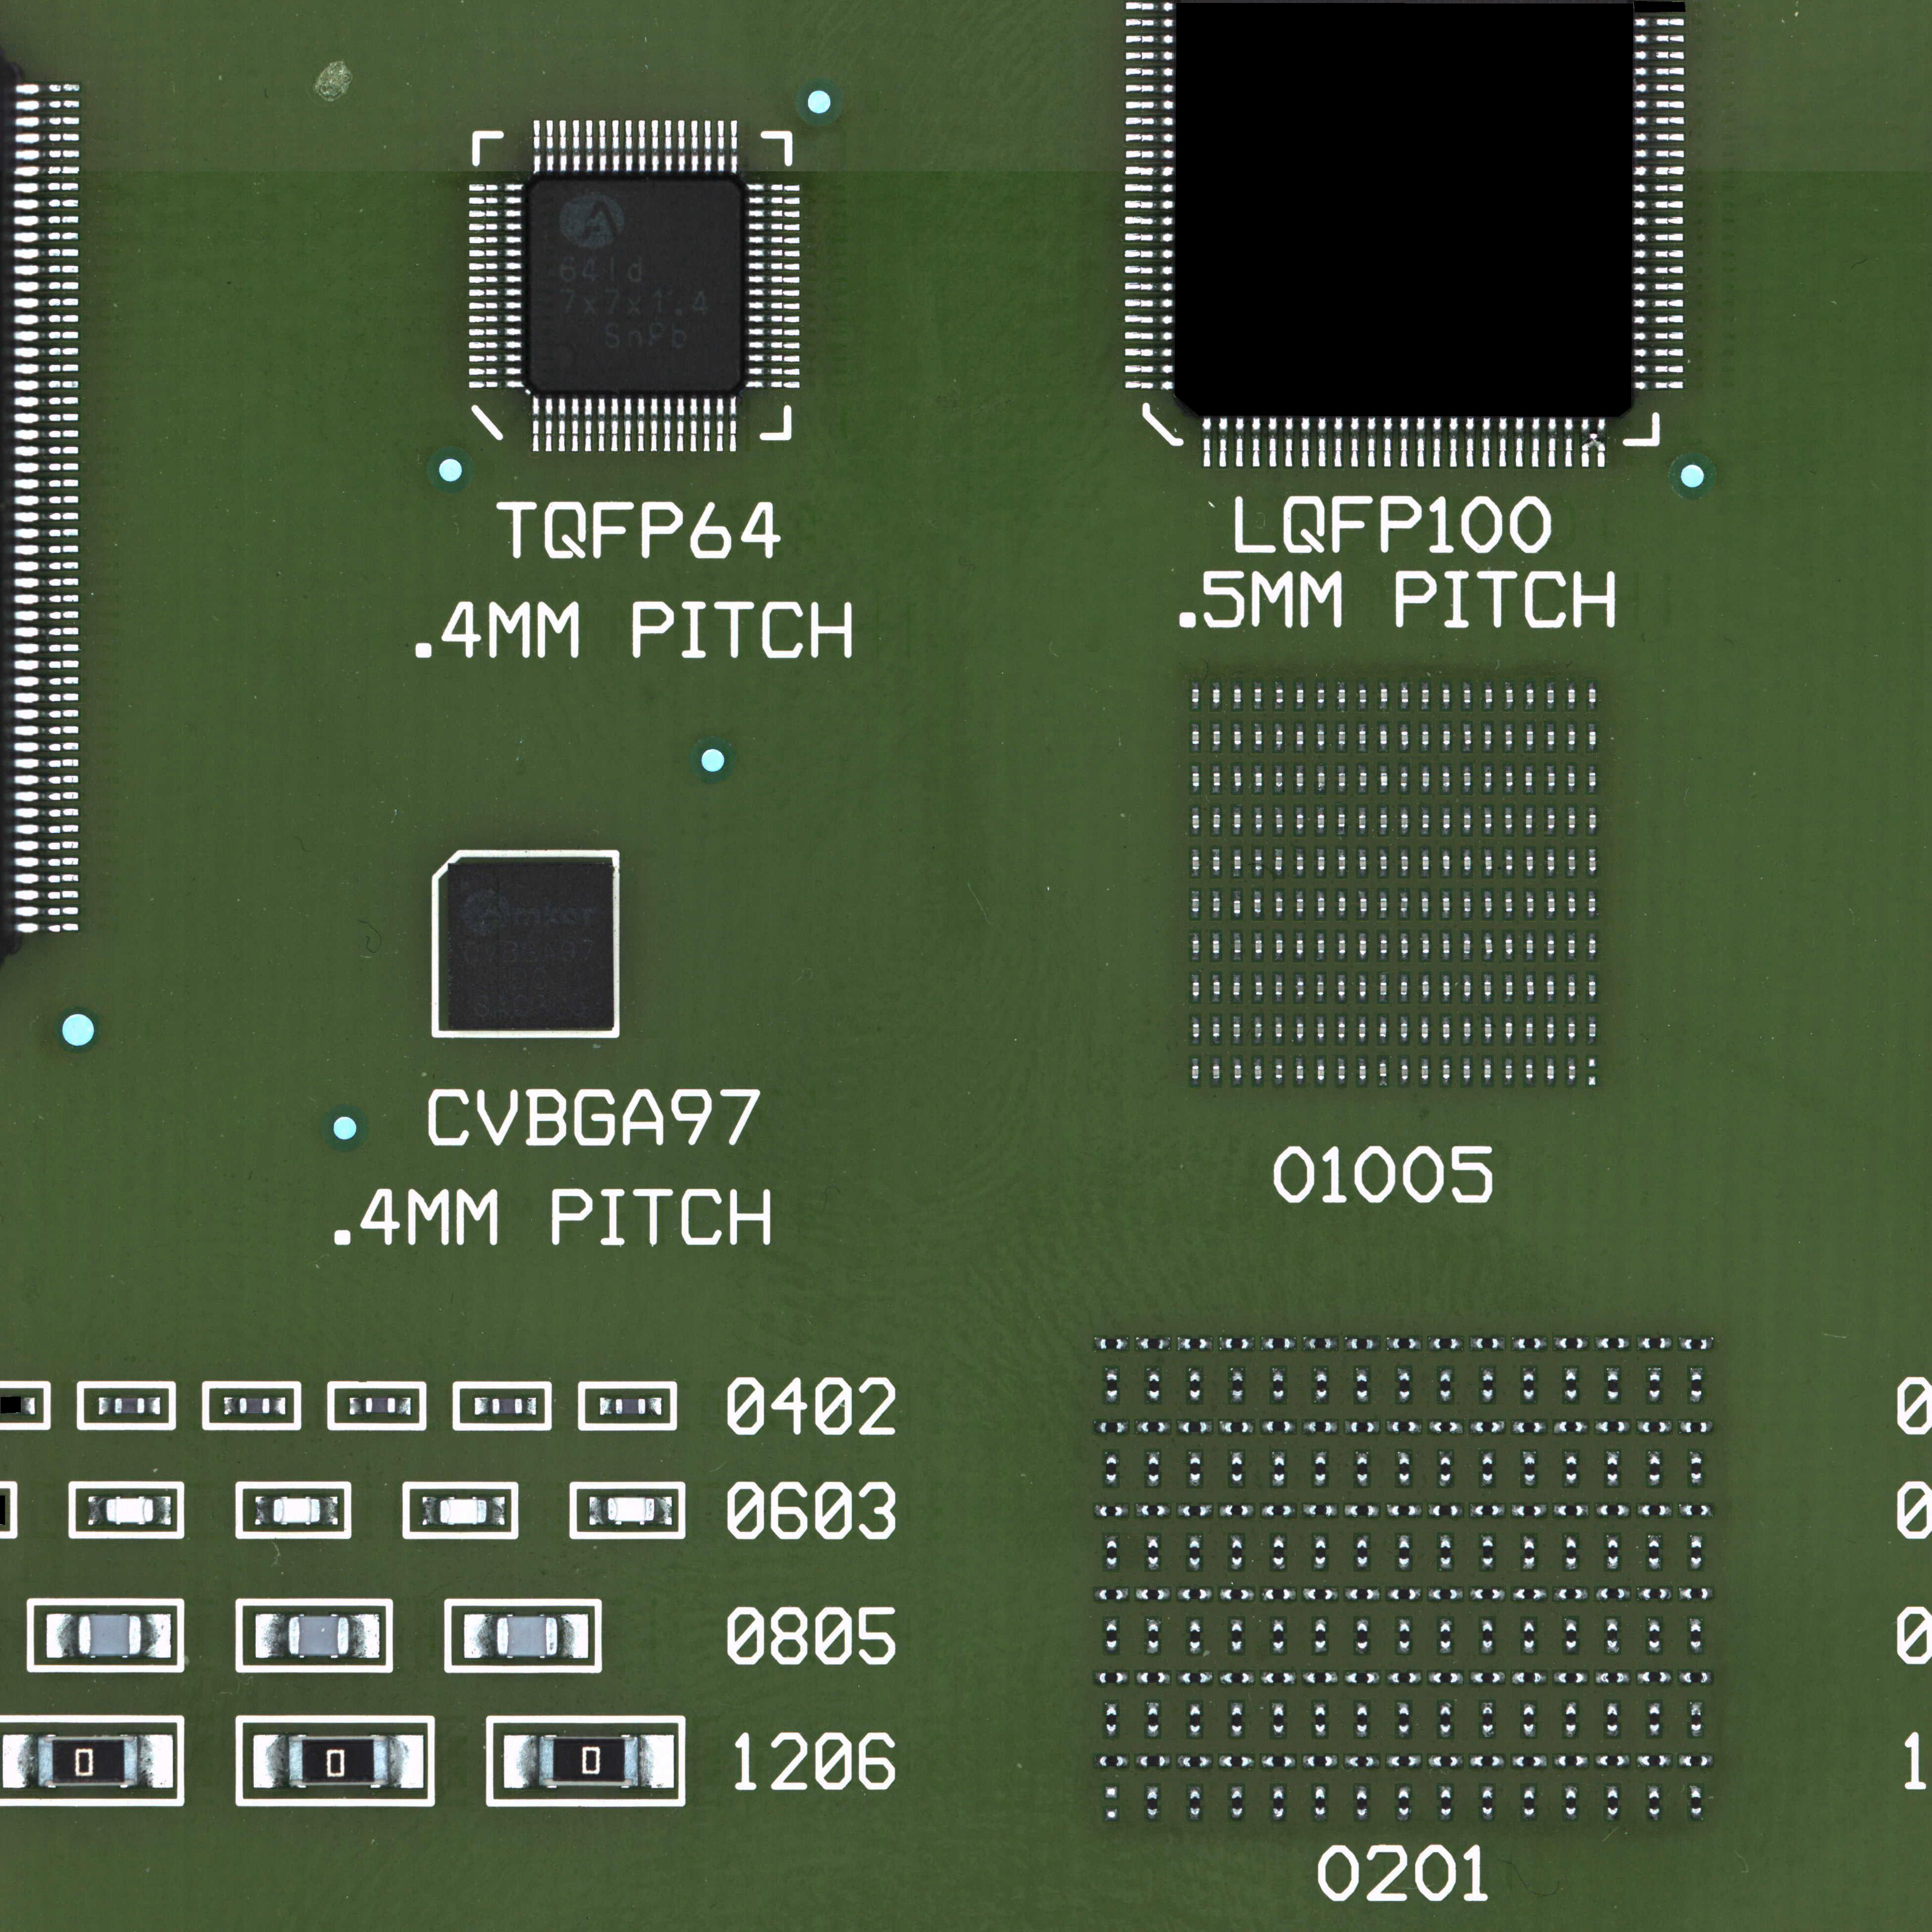Package: (528, 179, 742, 391), (448, 864, 613, 1029), (38, 1736, 138, 1786), (289, 1736, 388, 1785), (538, 1737, 638, 1785), (79, 1615, 142, 1655), (288, 1617, 349, 1655), (497, 1617, 558, 1655), (273, 1498, 321, 1523), (608, 1497, 655, 1522), (440, 1499, 487, 1523), (106, 1499, 153, 1523), (492, 1399, 523, 1414), (114, 1398, 145, 1413), (616, 1399, 645, 1414), (239, 1398, 269, 1413), (365, 1398, 395, 1413), (1273, 1623, 1284, 1649), (1356, 1623, 1368, 1649), (1559, 1505, 1583, 1517), (1607, 1790, 1618, 1815), (1523, 1541, 1536, 1564), (1231, 1791, 1243, 1815), (1440, 1541, 1451, 1565), (1148, 1539, 1159, 1564), (1189, 1374, 1201, 1398), (1440, 1624, 1451, 1648), (1266, 1505, 1291, 1516), (1189, 1624, 1200, 1648), (1273, 1539, 1284, 1565), (1601, 1588, 1624, 1599), (1141, 1672, 1165, 1683), (1189, 1541, 1200, 1565), (1566, 1456, 1577, 1480), (1308, 1589, 1332, 1600), (1315, 1456, 1326, 1481), (1566, 1790, 1577, 1815), (1433, 1505, 1458, 1516), (1315, 1623, 1326, 1648), (1356, 1374, 1367, 1397), (1184, 1422, 1207, 1433), (1648, 1541, 1659, 1564), (1649, 1457, 1660, 1481), (1231, 1623, 1242, 1647), (1475, 1589, 1500, 1599), (1107, 1374, 1118, 1396), (1690, 1624, 1701, 1647), (1351, 1589, 1374, 1600), (1649, 1624, 1660, 1647), (1356, 1457, 1367, 1480), (1149, 1374, 1159, 1398), (1148, 1624, 1159, 1647), (1400, 1624, 1410, 1648), (1566, 1623, 1576, 1647), (1399, 1540, 1409, 1564), (1308, 1756, 1332, 1766), (1190, 1457, 1201, 1480), (1309, 1505, 1332, 1516), (1607, 1375, 1619, 1397), (1190, 1709, 1201, 1732), (1148, 1708, 1159, 1731), (1107, 1624, 1117, 1648), (1190, 1791, 1200, 1815), (1107, 1457, 1117, 1481), (1440, 1457, 1450, 1481), (1392, 1589, 1416, 1599), (1183, 1506, 1207, 1517), (1691, 1541, 1702, 1564), (1225, 1756, 1249, 1767), (1399, 1791, 1409, 1815), (1475, 1673, 1500, 1683), (1232, 1540, 1242, 1565), (1142, 1422, 1164, 1433), (1649, 1792, 1660, 1815), (1309, 1421, 1331, 1432), (1691, 1374, 1702, 1396), (1399, 1374, 1410, 1397), (1608, 1542, 1619, 1564), (1642, 1505, 1666, 1516), (1559, 1589, 1582, 1599), (1141, 1756, 1164, 1766), (1643, 1672, 1667, 1682), (1147, 1792, 1158, 1815), (1351, 1422, 1374, 1433), (1351, 1505, 1374, 1516), (1607, 1624, 1618, 1647), (1149, 1457, 1159, 1481), (1565, 1708, 1576, 1731), (1232, 1457, 1242, 1481), (1525, 1457, 1535, 1480), (1315, 1541, 1326, 1564), (1524, 1624, 1535, 1647), (1107, 1541, 1117, 1565), (1357, 1541, 1367, 1565), (1350, 1673, 1374, 1683), (1483, 1540, 1493, 1564), (1100, 1339, 1122, 1350), (1649, 1374, 1660, 1396), (1685, 1672, 1707, 1683), (1686, 1588, 1708, 1598), (1686, 1505, 1707, 1516), (1267, 1421, 1290, 1432), (1183, 1589, 1206, 1599), (1524, 1374, 1534, 1397), (1316, 1374, 1327, 1397), (1106, 1708, 1116, 1731), (1440, 1374, 1450, 1397), (1399, 1458, 1409, 1481), (1565, 1376, 1577, 1397), (1607, 1458, 1618, 1481), (1357, 1791, 1367, 1815), (1559, 1756, 1583, 1766), (1267, 1673, 1291, 1683), (1517, 1506, 1541, 1516), (1434, 1590, 1457, 1599), (1517, 1589, 1541, 1599), (1483, 1624, 1493, 1647), (1273, 1375, 1284, 1397), (1644, 1338, 1665, 1349), (1435, 1338, 1457, 1349), (1602, 1421, 1624, 1432), (1566, 1542, 1576, 1564), (1226, 1422, 1248, 1433), (1601, 1673, 1624, 1683), (1144, 1338, 1164, 1350), (1100, 1673, 1123, 1683), (1273, 1791, 1283, 1814), (1274, 1457, 1284, 1481), (1183, 1673, 1207, 1683), (1607, 1708, 1617, 1731), (1266, 1590, 1290, 1599), (1476, 1505, 1499, 1515), (1267, 1757, 1291, 1767), (1483, 1458, 1493, 1481), (1308, 1673, 1332, 1683), (1560, 1421, 1582, 1432), (1101, 1422, 1122, 1433), (1561, 1338, 1583, 1348), (1691, 1710, 1702, 1731), (1441, 1791, 1451, 1813), (1691, 1457, 1701, 1479), (1101, 1756, 1123, 1766), (1184, 1757, 1207, 1767), (1393, 1505, 1415, 1515), (1690, 1793, 1702, 1813), (1394, 1338, 1415, 1349), (1143, 1505, 1164, 1515), (1519, 1338, 1540, 1349), (1482, 1375, 1493, 1397), (1649, 1709, 1660, 1730), (1315, 1710, 1326, 1731), (1315, 1793, 1325, 1814), (1232, 1376, 1243, 1396), (1100, 1590, 1122, 1600), (1393, 1422, 1415, 1432), (1643, 1422, 1666, 1432), (1602, 1338, 1624, 1348), (1476, 1422, 1498, 1432), (1601, 1505, 1624, 1515), (1268, 1338, 1290, 1348), (1518, 1673, 1540, 1683), (1601, 1756, 1623, 1766), (1518, 1757, 1540, 1767), (1225, 1505, 1248, 1515), (1225, 1673, 1249, 1683), (1483, 1709, 1493, 1730), (1232, 1711, 1242, 1732), (1643, 1589, 1665, 1598), (1685, 1756, 1707, 1766), (1524, 1709, 1534, 1731), (1226, 1339, 1248, 1349), (1352, 1757, 1374, 1767), (1435, 1757, 1457, 1766), (1686, 1422, 1706, 1432), (1524, 1793, 1534, 1814), (1686, 1339, 1707, 1349), (1142, 1590, 1163, 1599), (1185, 1339, 1206, 1349), (1519, 1422, 1540, 1432), (1435, 1422, 1456, 1432), (1226, 1590, 1248, 1599), (1560, 1673, 1582, 1683), (1643, 1756, 1665, 1766), (1435, 1673, 1457, 1683), (1476, 1757, 1498, 1766), (1477, 1338, 1498, 1348), (1441, 1709, 1451, 1729), (1352, 1339, 1373, 1349), (1274, 1709, 1284, 1730), (1310, 1338, 1331, 1348), (1483, 1793, 1493, 1813), (1394, 1673, 1415, 1683), (1393, 1756, 1414, 1766), (1101, 1506, 1121, 1516), (1399, 1710, 1409, 1730), (1357, 1711, 1367, 1730), (1337, 1066, 1347, 1079), (1485, 939, 1493, 954), (1338, 981, 1346, 995), (1338, 1023, 1346, 1038), (1504, 815, 1513, 828), (1485, 689, 1493, 703), (1255, 773, 1262, 786), (1191, 1065, 1199, 1079), (1527, 898, 1534, 913), (1401, 1023, 1408, 1037), (1421, 1024, 1429, 1038), (1317, 1065, 1325, 1080), (1526, 689, 1534, 703), (1505, 731, 1513, 744), (1505, 898, 1513, 912), (1401, 731, 1409, 745), (1338, 940, 1346, 954), (1255, 1023, 1262, 1037), (1275, 1065, 1283, 1078), (1192, 689, 1199, 703), (1254, 688, 1261, 702), (1276, 689, 1284, 703), (1401, 689, 1408, 703), (1547, 689, 1554, 703), (1568, 731, 1576, 745), (1485, 773, 1492, 787), (1568, 773, 1575, 786), (1464, 857, 1471, 870), (1568, 856, 1576, 870), (1443, 898, 1450, 912), (1568, 898, 1576, 912), (1589, 939, 1596, 953), (1589, 981, 1596, 995), (1275, 773, 1283, 786), (1359, 773, 1367, 786), (1358, 815, 1366, 828), (1422, 814, 1429, 828), (1380, 856, 1387, 870), (1401, 898, 1408, 912), (1401, 940, 1408, 954), (1422, 981, 1430, 995), (1297, 1023, 1304, 1038), (1255, 730, 1262, 744), (1233, 900, 1241, 914), (1255, 1065, 1262, 1079), (1526, 1064, 1533, 1078), (1568, 1065, 1576, 1079), (1443, 856, 1449, 870), (1526, 856, 1533, 870), (1422, 773, 1429, 787), (1422, 940, 1429, 954), (1317, 731, 1324, 745), (1505, 1022, 1512, 1037), (1234, 689, 1241, 702), (1464, 690, 1471, 703), (1506, 689, 1513, 703), (1568, 689, 1575, 703), (1484, 731, 1492, 744), (1443, 773, 1450, 786), (1443, 815, 1450, 828), (1485, 815, 1492, 828), (1525, 815, 1533, 828), (1547, 815, 1555, 828), (1568, 815, 1576, 828), (1485, 898, 1492, 912), (1547, 899, 1555, 912), (1484, 982, 1492, 995), (1505, 982, 1513, 995), (1527, 981, 1534, 995), (1547, 981, 1554, 995), (1338, 731, 1346, 745), (1380, 731, 1387, 744), (1338, 773, 1346, 786), (1338, 857, 1346, 870), (1359, 857, 1367, 870), (1317, 898, 1325, 911), (1359, 899, 1367, 912), (1359, 940, 1367, 954), (1359, 982, 1366, 995), (1380, 982, 1387, 996), (1401, 982, 1408, 995), (1275, 1024, 1283, 1037), (1234, 773, 1242, 786), (1192, 982, 1200, 996), (1546, 1024, 1554, 1037), (1212, 1065, 1220, 1079), (1359, 1066, 1366, 1079), (1443, 1065, 1450, 1078), (1505, 1064, 1512, 1078), (1255, 982, 1263, 995), (1213, 689, 1220, 703), (1318, 689, 1325, 703), (1339, 689, 1346, 703), (1381, 688, 1388, 702), (1422, 689, 1429, 703), (1547, 731, 1554, 745), (1506, 773, 1513, 786), (1548, 773, 1555, 787), (1547, 857, 1554, 870), (1589, 858, 1596, 871), (1443, 940, 1449, 954), (1568, 940, 1575, 954), (1443, 982, 1450, 996), (1422, 731, 1429, 745), (1401, 773, 1407, 787), (1401, 857, 1408, 870), (1297, 940, 1304, 954), (1380, 1023, 1387, 1037), (1234, 731, 1241, 745), (1256, 814, 1262, 828), (1234, 814, 1241, 828), (1193, 815, 1200, 828), (1568, 1023, 1575, 1037), (1464, 1023, 1471, 1037), (1443, 1024, 1449, 1038), (1401, 1065, 1408, 1079), (1463, 1065, 1470, 1079), (1443, 689, 1450, 702), (1443, 731, 1450, 744), (1464, 899, 1471, 912), (1275, 982, 1283, 995), (1317, 982, 1324, 995), (1192, 940, 1200, 953), (1234, 1065, 1241, 1078), (1297, 689, 1304, 703), (1359, 689, 1366, 703), (1589, 689, 1596, 702), (1464, 731, 1471, 744), (1527, 731, 1534, 744), (1589, 731, 1596, 745), (1589, 815, 1596, 828), (1589, 773, 1596, 786), (1589, 899, 1595, 912), (1506, 856, 1513, 869), (1463, 940, 1470, 954), (1505, 939, 1512, 953), (1526, 940, 1533, 953), (1547, 940, 1554, 954), (1568, 982, 1575, 995), (1359, 731, 1366, 745), (1297, 773, 1304, 786), (1381, 773, 1388, 786), (1422, 857, 1429, 870), (1297, 816, 1304, 829), (1317, 815, 1324, 828), (1380, 815, 1387, 828), (1401, 815, 1408, 828), (1275, 857, 1282, 870), (1317, 857, 1324, 870), (1276, 898, 1283, 912), (1297, 899, 1304, 912), (1422, 898, 1429, 912), (1276, 940, 1283, 953), (1318, 940, 1325, 954), (1297, 982, 1304, 995), (1317, 1024, 1324, 1037), (1359, 1024, 1366, 1037), (1297, 731, 1304, 745), (1276, 731, 1283, 745), (1213, 731, 1220, 745), (1192, 731, 1199, 745), (1193, 773, 1200, 787), (1214, 773, 1221, 787), (1255, 856, 1262, 869), (1234, 857, 1241, 870), (1213, 857, 1220, 870), (1192, 857, 1199, 870), (1254, 899, 1261, 912), (1192, 898, 1199, 912), (1234, 940, 1241, 953), (1213, 940, 1220, 954), (1233, 1024, 1240, 1037), (1526, 1023, 1533, 1037), (1485, 1024, 1492, 1037), (1297, 1065, 1304, 1079), (1421, 1065, 1428, 1079), (1484, 1065, 1491, 1078), (1547, 1065, 1554, 1079), (1485, 857, 1493, 869), (1464, 773, 1471, 786), (1464, 815, 1471, 828), (1464, 982, 1471, 995), (1317, 773, 1324, 786), (1276, 815, 1283, 828), (1338, 814, 1345, 827), (1297, 857, 1304, 870), (1339, 898, 1346, 911), (1381, 940, 1387, 954), (1213, 815, 1220, 827), (1213, 898, 1220, 911), (1255, 940, 1262, 953), (1213, 982, 1220, 995), (1233, 982, 1240, 995), (1213, 1024, 1220, 1037), (1193, 1024, 1200, 1037), (1589, 1024, 1596, 1037), (1380, 1063, 1387, 1076), (1526, 773, 1532, 786), (1380, 898, 1387, 911)
Solder: (253, 1734, 288, 1788), (138, 1735, 174, 1788), (389, 1735, 424, 1788), (638, 1735, 674, 1788), (3, 1735, 37, 1788), (505, 1736, 537, 1788), (255, 1613, 288, 1658), (464, 1614, 496, 1658), (46, 1613, 78, 1658), (558, 1613, 588, 1658), (350, 1614, 379, 1658), (142, 1614, 171, 1658), (15, 98, 82, 112), (14, 115, 81, 129), (14, 132, 81, 145), (14, 163, 81, 177), (13, 197, 80, 211), (13, 231, 80, 245), (13, 264, 80, 278), (13, 345, 80, 359), (12, 379, 79, 393), (12, 462, 79, 476), (12, 510, 79, 524), (13, 559, 80, 573), (13, 609, 80, 623), (13, 641, 80, 655), (13, 675, 80, 689), (13, 691, 80, 705), (13, 708, 80, 722), (13, 789, 80, 803), (14, 838, 81, 852), (13, 888, 80, 902), (14, 147, 81, 161), (15, 81, 81, 95), (13, 313, 80, 327), (14, 412, 80, 426), (13, 527, 80, 540), (14, 659, 80, 673), (14, 740, 80, 754), (14, 872, 80, 886), (13, 921, 79, 935), (14, 181, 81, 194), (12, 247, 79, 260), (13, 296, 80, 310), (12, 330, 79, 343), (13, 395, 80, 409), (13, 429, 80, 442), (13, 478, 80, 491), (13, 494, 80, 507), (12, 543, 79, 557), (14, 593, 81, 606), (13, 626, 80, 639), (13, 757, 80, 770), (13, 773, 80, 786), (14, 807, 81, 820), (13, 855, 80, 869), (13, 905, 80, 918), (14, 215, 80, 228), (12, 281, 79, 294), (13, 363, 80, 376), (13, 445, 80, 459), (13, 576, 79, 589), (13, 724, 80, 737), (13, 823, 80, 836), (728, 395, 738, 452), (1124, 17, 1175, 28), (1124, 49, 1175, 60), (1124, 34, 1175, 45), (1124, 66, 1175, 77), (1124, 83, 1175, 94), (1123, 116, 1174, 127), (1123, 132, 1174, 143), (1124, 149, 1175, 160), (1123, 182, 1174, 193), (1123, 216, 1174, 227), (1124, 248, 1175, 259), (1123, 265, 1174, 276), (1123, 297, 1174, 308), (1123, 314, 1174, 325), (1123, 330, 1174, 341), (1123, 364, 1174, 375), (1123, 380, 1174, 391), (1635, 0, 1686, 11), (1635, 16, 1686, 27), (1634, 49, 1685, 60), (1634, 33, 1685, 44), (1634, 66, 1685, 77), (1634, 83, 1685, 94), (1633, 115, 1684, 126), (1634, 148, 1685, 159), (1633, 181, 1684, 192), (1634, 198, 1685, 209), (1633, 215, 1684, 226), (1633, 232, 1684, 242), (1634, 248, 1685, 259), (1633, 265, 1684, 276), (1633, 297, 1684, 308), (1633, 363, 1684, 374), (1633, 380, 1684, 390), (1316, 417, 1327, 468), (1300, 417, 1310, 468), (1284, 417, 1295, 468), (1267, 417, 1278, 468), (1531, 417, 1542, 468), (1546, 417, 1557, 468), (1563, 417, 1574, 468), (1123, 165, 1174, 176), (1125, 1, 1175, 12), (1123, 232, 1174, 243), (1123, 282, 1174, 292), (1633, 132, 1684, 143), (1633, 330, 1683, 340), (1634, 346, 1684, 357), (1202, 417, 1212, 468), (1218, 417, 1229, 468), (1251, 417, 1261, 468), (1234, 417, 1245, 468), (1333, 418, 1344, 468), (1349, 418, 1360, 468), (1366, 418, 1377, 468), (1415, 418, 1426, 468), (1399, 418, 1409, 468), (1383, 418, 1394, 468), (1432, 417, 1443, 468), (1448, 417, 1458, 468), (1464, 417, 1475, 468), (1481, 417, 1492, 468), (1497, 417, 1508, 468), (1513, 417, 1524, 468), (1596, 418, 1607, 468), (1579, 418, 1590, 468), (1634, 166, 1684, 177), (254, 1496, 273, 1525), (468, 183, 525, 193), (1124, 199, 1175, 210), (1634, 99, 1685, 109), (1633, 281, 1684, 291), (1633, 314, 1684, 324), (1124, 99, 1175, 110), (1124, 347, 1174, 358), (468, 236, 523, 245), (745, 236, 800, 245), (468, 248, 523, 258), (745, 367, 800, 377), (746, 314, 801, 324), (468, 262, 523, 271), (468, 275, 523, 284), (468, 340, 523, 350), (468, 353, 523, 363), (468, 196, 523, 205), (469, 209, 524, 218), (468, 222, 523, 231), (531, 394, 540, 452), (746, 248, 800, 258), (746, 341, 800, 350), (747, 262, 801, 271), (746, 288, 801, 297), (746, 209, 801, 219), (746, 183, 800, 192), (655, 1497, 673, 1525), (487, 1497, 505, 1525), (589, 1497, 607, 1525), (321, 1497, 338, 1525), (468, 288, 523, 297), (468, 328, 523, 337), (154, 1496, 171, 1525), (89, 1496, 105, 1525), (468, 301, 523, 310), (468, 315, 523, 324), (544, 397, 553, 452), (422, 1497, 439, 1525), (746, 301, 800, 310), (746, 328, 800, 337), (746, 275, 801, 284), (746, 222, 801, 231), (746, 195, 800, 204), (469, 367, 523, 376), (597, 397, 606, 452), (650, 397, 659, 452), (468, 380, 525, 388), (572, 119, 580, 172), (559, 119, 568, 173), (545, 119, 554, 173), (598, 119, 607, 173), (625, 119, 633, 172), (677, 119, 686, 172), (664, 119, 673, 172), (651, 119, 660, 173), (638, 119, 647, 173), (585, 119, 594, 172), (730, 119, 739, 172), (584, 397, 593, 452), (571, 397, 580, 452), (703, 397, 711, 452), (663, 397, 672, 452), (746, 354, 800, 363), (745, 381, 800, 389), (611, 397, 619, 452), (637, 397, 645, 452), (676, 398, 685, 452), (611, 119, 620, 172), (717, 119, 725, 172), (704, 119, 713, 173), (691, 119, 699, 173), (558, 397, 566, 452), (624, 397, 632, 452), (716, 397, 724, 452), (690, 397, 698, 452), (269, 1398, 286, 1415), (475, 1398, 491, 1415), (645, 1398, 662, 1415), (349, 1398, 365, 1415), (396, 1398, 411, 1416), (224, 1398, 239, 1415), (21, 1397, 37, 1414), (600, 1397, 615, 1415), (98, 1398, 114, 1414), (145, 1397, 160, 1414), (523, 1398, 537, 1415), (1355, 1702, 1369, 1711), (1397, 1730, 1410, 1739), (1260, 1335, 1268, 1351), (1440, 1729, 1452, 1739), (1606, 1648, 1621, 1655), (1355, 1731, 1369, 1739), (1690, 1814, 1704, 1821), (1522, 1814, 1537, 1822), (1248, 1337, 1256, 1351), (1647, 1564, 1663, 1571), (1303, 1336, 1310, 1351), (1523, 1731, 1537, 1739), (1482, 1813, 1496, 1821), (1188, 1480, 1202, 1488), (1314, 1648, 1328, 1655), (1624, 1754, 1631, 1768), (1647, 1815, 1662, 1822), (1291, 1335, 1298, 1351), (1469, 1337, 1477, 1350), (1122, 1505, 1130, 1518), (1565, 1564, 1580, 1571), (1511, 1671, 1518, 1686), (1565, 1815, 1579, 1822), (1314, 1732, 1328, 1739), (1440, 1366, 1453, 1374), (1248, 1588, 1255, 1601), (1207, 1588, 1214, 1601), (1188, 1648, 1202, 1656), (1690, 1647, 1703, 1655), (1271, 1814, 1285, 1822), (1164, 1504, 1172, 1517), (1207, 1337, 1213, 1351), (1541, 1337, 1547, 1351), (1708, 1671, 1715, 1685), (1374, 1672, 1381, 1686), (1147, 1731, 1160, 1738), (1428, 1755, 1435, 1769), (1499, 1755, 1506, 1769), (1647, 1786, 1661, 1792), (1607, 1815, 1621, 1822), (1136, 1337, 1144, 1350), (1176, 1588, 1183, 1600), (1135, 1588, 1142, 1601), (1480, 1648, 1495, 1654), (1522, 1648, 1537, 1654), (1440, 1701, 1452, 1709), (1690, 1786, 1702, 1793), (1188, 1733, 1203, 1739), (1163, 1589, 1171, 1600), (1690, 1702, 1702, 1710), (1524, 1786, 1536, 1793), (1457, 1337, 1464, 1350), (1647, 1397, 1661, 1403), (1249, 1504, 1256, 1518), (1148, 1565, 1161, 1572), (1093, 1589, 1100, 1602), (1552, 1671, 1559, 1685), (1259, 1671, 1266, 1685), (1481, 1731, 1495, 1738), (1415, 1754, 1422, 1768), (1583, 1754, 1590, 1768), (1271, 1702, 1285, 1709), (1314, 1815, 1327, 1822), (1440, 1397, 1454, 1403), (1104, 1481, 1118, 1488), (1523, 1564, 1537, 1571), (1624, 1505, 1631, 1518), (1218, 1588, 1226, 1600), (1231, 1647, 1243, 1655), (1523, 1702, 1535, 1709), (1314, 1786, 1327, 1793), (1647, 1648, 1663, 1654), (1231, 1703, 1243, 1711), (1164, 1338, 1171, 1351), (1345, 1338, 1352, 1351), (1707, 1338, 1714, 1351), (1679, 1420, 1686, 1433), (1541, 1420, 1547, 1434), (1469, 1420, 1476, 1433), (1165, 1421, 1172, 1434), (1541, 1671, 1547, 1685), (1332, 1671, 1339, 1684), (1135, 1671, 1141, 1685), (1123, 1672, 1130, 1685), (1093, 1672, 1100, 1685), (1690, 1731, 1703, 1738), (1564, 1701, 1578, 1708), (1458, 1755, 1465, 1768), (1541, 1755, 1547, 1768), (1249, 1756, 1256, 1769), (1345, 1755, 1352, 1768), (1331, 1337, 1338, 1349), (1386, 1338, 1394, 1350), (1290, 1589, 1298, 1600), (1605, 1618, 1620, 1624), (1386, 1672, 1393, 1684), (1249, 1672, 1256, 1684), (1583, 1337, 1590, 1350), (1260, 1420, 1267, 1433), (1439, 1481, 1452, 1488), (1357, 1481, 1370, 1487), (1386, 1504, 1393, 1518), (1542, 1504, 1548, 1517), (1398, 1648, 1411, 1655), (1439, 1649, 1452, 1655), (1457, 1672, 1464, 1685), (1291, 1672, 1298, 1685), (1481, 1702, 1495, 1709), (1122, 1338, 1129, 1350), (1177, 1338, 1184, 1350), (1553, 1338, 1560, 1350), (1666, 1337, 1673, 1350), (1679, 1338, 1686, 1351), (1707, 1421, 1714, 1433), (1553, 1421, 1560, 1433), (1332, 1421, 1339, 1433), (1093, 1505, 1100, 1517), (1302, 1504, 1309, 1516), (1624, 1588, 1631, 1600), (1541, 1588, 1548, 1600), (1147, 1648, 1159, 1655), (1398, 1703, 1410, 1710), (1636, 1755, 1643, 1767), (1374, 1504, 1380, 1518), (1272, 1565, 1286, 1571), (1355, 1649, 1369, 1655), (1094, 1337, 1100, 1350), (1344, 1420, 1351, 1433), (1094, 1421, 1101, 1434), (1481, 1397, 1494, 1403), (1690, 1397, 1703, 1403), (1606, 1481, 1619, 1488), (1399, 1481, 1411, 1488), (1207, 1504, 1213, 1517), (1637, 1671, 1643, 1684), (1649, 1702, 1662, 1709), (1606, 1731, 1619, 1738), (1564, 1732, 1577, 1738), (1146, 1816, 1159, 1822), (1146, 1786, 1159, 1792), (1415, 1338, 1422, 1350), (1583, 1420, 1589, 1434), (1386, 1420, 1393, 1432), (1106, 1397, 1118, 1403), (1399, 1451, 1410, 1458), (1147, 1481, 1160, 1487), (1607, 1564, 1621, 1570), (1397, 1617, 1411, 1623), (1689, 1618, 1703, 1624), (1649, 1731, 1661, 1738), (1678, 1755, 1685, 1767), (1315, 1703, 1327, 1710), (1440, 1814, 1452, 1821), (1230, 1816, 1244, 1822), (1498, 1420, 1505, 1433), (1122, 1420, 1129, 1433), (1231, 1397, 1244, 1403), (1523, 1398, 1535, 1404), (1565, 1397, 1577, 1403), (1690, 1564, 1703, 1571), (1482, 1565, 1495, 1571), (1314, 1564, 1327, 1571), (1260, 1588, 1266, 1600), (1122, 1588, 1129, 1600), (1582, 1671, 1589, 1683), (1428, 1672, 1434, 1684), (1416, 1671, 1422, 1684), (1666, 1755, 1672, 1767), (1356, 1815, 1368, 1822), (1272, 1397, 1285, 1402), (1165, 1755, 1171, 1768), (1397, 1786, 1410, 1791), (1379, 1077, 1387, 1086), (1457, 1422, 1464, 1433), (1624, 1672, 1631, 1684), (1165, 1673, 1172, 1685), (1469, 1756, 1476, 1767), (1707, 1755, 1714, 1766), (1439, 1565, 1453, 1571), (1637, 1420, 1643, 1432), (1290, 1420, 1296, 1433), (1315, 1368, 1328, 1374), (1607, 1368, 1619, 1374), (1649, 1481, 1662, 1487), (1607, 1451, 1619, 1458), (1219, 1504, 1225, 1517), (1499, 1504, 1506, 1516), (1637, 1588, 1643, 1600), (1583, 1589, 1589, 1600), (1333, 1589, 1339, 1600), (1189, 1618, 1202, 1624), (1272, 1649, 1285, 1655), (1566, 1648, 1578, 1654), (1648, 1618, 1660, 1624), (1595, 1671, 1601, 1684), (1147, 1702, 1160, 1708), (1374, 1756, 1381, 1768), (1386, 1756, 1393, 1768), (1553, 1755, 1559, 1768), (1094, 1756, 1100, 1768), (1373, 1338, 1380, 1349), (1458, 1504, 1463, 1518), (1512, 1504, 1517, 1518), (1501, 1588, 1506, 1602), (1504, 723, 1513, 731), (1233, 891, 1241, 900), (1254, 1057, 1262, 1065), (1567, 1057, 1576, 1065), (1429, 1337, 1435, 1350), (1595, 1337, 1601, 1350), (1595, 1421, 1601, 1433), (1512, 1421, 1518, 1433), (1429, 1420, 1435, 1433), (1303, 1420, 1309, 1433), (1249, 1421, 1255, 1434), (1136, 1421, 1142, 1433), (1398, 1397, 1410, 1403), (1607, 1397, 1620, 1402), (1136, 1504, 1142, 1516), (1332, 1505, 1338, 1517), (1416, 1504, 1422, 1517), (1636, 1504, 1642, 1516), (1440, 1534, 1452, 1540), (1398, 1565, 1410, 1571), (1188, 1565, 1201, 1571), (1553, 1588, 1559, 1600), (1105, 1618, 1117, 1624), (1679, 1672, 1685, 1684), (1469, 1672, 1475, 1684), (1177, 1755, 1183, 1768), (1261, 1755, 1267, 1768), (1333, 1755, 1339, 1767), (1189, 1703, 1202, 1709), (1274, 1731, 1284, 1738), (1398, 1816, 1410, 1822), (1566, 1369, 1577, 1375), (1679, 1588, 1686, 1599), (1482, 1786, 1493, 1792), (1375, 1420, 1380, 1434), (1188, 1368, 1202, 1373), (1649, 1368, 1662, 1374), (1690, 1535, 1704, 1540), (1229, 1565, 1243, 1570), (1344, 1671, 1350, 1684), (1512, 1754, 1517, 1768), (1355, 1786, 1368, 1791), (1498, 1338, 1505, 1349), (1254, 890, 1262, 898), (1253, 680, 1262, 688), (1337, 681, 1346, 689), (1379, 680, 1388, 688), (1567, 681, 1576, 689), (1442, 723, 1451, 731), (1588, 764, 1597, 772), (1463, 807, 1472, 815), (1504, 806, 1513, 814), (1546, 807, 1555, 815), (1525, 848, 1534, 856), (1504, 848, 1513, 856), (1485, 890, 1494, 898), (1547, 890, 1556, 898), (1546, 932, 1555, 940), (1526, 973, 1535, 981), (1504, 973, 1513, 981), (1567, 973, 1576, 981), (1400, 723, 1409, 731), (1358, 807, 1367, 815), (1317, 806, 1326, 814), (1400, 807, 1409, 815), (1275, 890, 1284, 898), (1359, 890, 1368, 898), (1317, 932, 1326, 940), (1338, 932, 1347, 940), (1274, 974, 1283, 982), (1316, 974, 1325, 982), (1275, 1016, 1284, 1024), (1296, 1015, 1304, 1023), (1337, 1015, 1346, 1023), (1379, 1015, 1388, 1023), (1358, 723, 1367, 731), (1274, 723, 1283, 731), (1254, 848, 1263, 856), (1234, 932, 1243, 940), (1254, 1015, 1263, 1023), (1484, 1015, 1493, 1023), (1442, 1015, 1450, 1023), (1275, 1057, 1284, 1065), (1337, 1058, 1346, 1065), (1442, 1057, 1450, 1064), (1546, 1057, 1555, 1065), (1512, 1338, 1518, 1350), (1232, 1369, 1244, 1375), (1482, 1369, 1494, 1375), (1469, 1504, 1475, 1516), (1189, 1535, 1201, 1541), (1416, 1589, 1422, 1600), (1595, 1755, 1601, 1767), (1135, 1756, 1141, 1768), (1218, 1756, 1224, 1768), (1220, 1337, 1225, 1350), (1666, 1421, 1672, 1434), (1625, 1421, 1631, 1432), (1416, 1422, 1422, 1433), (1220, 1421, 1225, 1434), (1178, 1420, 1183, 1433), (1315, 1398, 1328, 1403), (1524, 1481, 1537, 1486), (1440, 1451, 1453, 1456), (1231, 1451, 1244, 1457), (1231, 1481, 1244, 1487), (1106, 1452, 1118, 1457), (1666, 1506, 1672, 1517), (1679, 1505, 1686, 1516), (1707, 1505, 1713, 1516), (1356, 1617, 1369, 1623), (1564, 1618, 1577, 1623), (1231, 1733, 1244, 1738), (1440, 1786, 1452, 1791), (1272, 1785, 1285, 1790), (1230, 1535, 1244, 1540), (1345, 1588, 1350, 1601), (1272, 1618, 1286, 1623), (1625, 1337, 1631, 1349), (1356, 1368, 1368, 1374), (1690, 1479, 1702, 1485), (1649, 1450, 1660, 1456), (1190, 1451, 1201, 1457), (1177, 1505, 1183, 1517), (1552, 1505, 1558, 1516), (1374, 1589, 1380, 1600), (1207, 1672, 1212, 1684), (1177, 1673, 1183, 1684), (1607, 1701, 1618, 1707), (1123, 1755, 1129, 1767), (1190, 1815, 1201, 1821), (1428, 1588, 1434, 1599), (1148, 1368, 1160, 1374), (1357, 1398, 1369, 1403), (1314, 1481, 1326, 1487), (1272, 1481, 1285, 1487), (1345, 1505, 1350, 1517), (1106, 1565, 1118, 1570), (1523, 1618, 1536, 1624), (1500, 1672, 1506, 1684), (1302, 1672, 1307, 1685), (1302, 1755, 1307, 1768), (1231, 1785, 1243, 1790), (1505, 681, 1513, 689), (1484, 807, 1493, 815), (1463, 891, 1472, 899), (1421, 806, 1430, 814), (1379, 870, 1388, 878), (1380, 954, 1388, 962), (1234, 848, 1242, 856), (1254, 974, 1262, 982), (1587, 1037, 1595, 1045), (1463, 1015, 1471, 1023), (1504, 1056, 1513, 1064), (1211, 681, 1220, 689), (1316, 682, 1325, 689), (1358, 681, 1367, 689), (1400, 681, 1409, 689), (1421, 681, 1430, 689), (1442, 681, 1450, 689), (1525, 681, 1534, 689), (1462, 682, 1471, 689), (1484, 681, 1493, 689), (1588, 681, 1597, 688), (1546, 724, 1555, 731), (1567, 723, 1576, 730), (1526, 765, 1535, 772), (1462, 766, 1471, 773), (1546, 765, 1555, 773), (1567, 765, 1576, 772), (1442, 807, 1451, 814), (1546, 849, 1555, 856), (1441, 890, 1449, 898), (1526, 890, 1535, 898), (1442, 932, 1450, 939), (1462, 932, 1471, 940), (1442, 974, 1451, 981), (1546, 973, 1555, 981), (1379, 745, 1388, 752), (1421, 723, 1430, 730), (1275, 807, 1284, 815), (1296, 808, 1304, 815), (1296, 850, 1304, 857), (1379, 848, 1388, 856), (1421, 890, 1430, 898), (1359, 932, 1368, 940), (1295, 932, 1304, 940), (1401, 932, 1409, 940), (1358, 974, 1367, 981), (1296, 974, 1304, 981), (1400, 974, 1409, 981), (1421, 973, 1430, 981), (1359, 1016, 1368, 1023), (1317, 1016, 1326, 1023), (1400, 1015, 1409, 1023), (1296, 724, 1304, 731), (1316, 723, 1325, 730), (1212, 766, 1221, 773), (1233, 765, 1242, 773), (1191, 974, 1200, 982), (1211, 974, 1220, 982), (1232, 974, 1241, 982), (1192, 1016, 1201, 1023), (1567, 1015, 1576, 1023), (1546, 1016, 1555, 1023), (1212, 1058, 1221, 1065), (1233, 1057, 1242, 1064), (1316, 1058, 1325, 1065), (1358, 1058, 1367, 1065), (1379, 1056, 1388, 1063), (1481, 1618, 1494, 1623), (1588, 724, 1597, 731), (1504, 932, 1513, 939), (1420, 1016, 1430, 1023), (1588, 1016, 1597, 1023), (1421, 1058, 1431, 1065), (1484, 1058, 1493, 1064), (1638, 1338, 1643, 1349), (1398, 1368, 1410, 1374), (1583, 1505, 1589, 1516), (1523, 1535, 1535, 1541), (1666, 1588, 1671, 1600), (1387, 1589, 1392, 1600), (1667, 1672, 1673, 1684), (1106, 1703, 1117, 1708), (1106, 1732, 1117, 1738), (1207, 1756, 1212, 1768), (1291, 1757, 1297, 1768), (1229, 1618, 1244, 1623), (1428, 1504, 1433, 1517), (1398, 1535, 1411, 1540), (1303, 1588, 1307, 1601), (1440, 1618, 1452, 1623), (1607, 1785, 1620, 1790), (1565, 1785, 1578, 1790), (1275, 848, 1283, 856), (1317, 849, 1325, 857), (1338, 911, 1346, 919), (1192, 807, 1200, 815), (1212, 890, 1220, 898), (1233, 681, 1241, 688), (1275, 681, 1284, 689), (1296, 681, 1304, 689), (1546, 681, 1555, 689), (1526, 723, 1535, 730), (1484, 765, 1493, 773), (1568, 848, 1576, 856), (1505, 890, 1513, 898), (1568, 912, 1576, 919), (1526, 932, 1534, 939), (1567, 932, 1576, 939), (1588, 931, 1596, 939), (1463, 974, 1471, 982), (1484, 974, 1493, 981), (1317, 766, 1325, 773), (1338, 765, 1346, 773), (1401, 765, 1409, 773), (1338, 849, 1346, 856), (1401, 849, 1409, 856), (1379, 974, 1388, 982), (1212, 724, 1220, 731), (1233, 724, 1242, 731), (1254, 723, 1262, 730), (1254, 765, 1262, 773), (1234, 806, 1242, 814), (1401, 1057, 1409, 1064), (1691, 1368, 1702, 1374), (1566, 1480, 1577, 1486), (1524, 1451, 1536, 1457), (1595, 1505, 1601, 1516), (1482, 1535, 1494, 1540), (1595, 1589, 1600, 1600), (1219, 1673, 1225, 1684), (1504, 703, 1513, 710), (1524, 703, 1533, 710), (1463, 849, 1472, 856), (1484, 932, 1493, 939), (1379, 724, 1388, 730), (1380, 933, 1389, 940), (1254, 807, 1263, 814), (1212, 1016, 1221, 1023), (1504, 1015, 1513, 1022), (1207, 1421, 1212, 1434), (1148, 1398, 1160, 1403), (1189, 1398, 1202, 1403), (1292, 1505, 1297, 1517), (1648, 1535, 1660, 1540), (1469, 1588, 1474, 1600), (1106, 1648, 1118, 1653), (1190, 1786, 1202, 1791), (1462, 1058, 1472, 1064), (1525, 1058, 1534, 1064), (1355, 1452, 1369, 1456), (1314, 1452, 1327, 1456), (1524, 1368, 1535, 1374), (1483, 1452, 1494, 1457), (1357, 1565, 1368, 1571), (1484, 723, 1492, 731), (1442, 787, 1450, 794), (1442, 765, 1450, 773), (1568, 807, 1575, 815), (1484, 870, 1492, 877), (1485, 849, 1493, 857), (1505, 953, 1513, 961), (1505, 995, 1513, 1003), (1338, 724, 1346, 731), (1338, 745, 1346, 752), (1317, 828, 1325, 836), (1380, 806, 1387, 814), (1359, 849, 1367, 856), (1317, 912, 1325, 919), (1338, 954, 1346, 962), (1380, 1038, 1388, 1045), (1255, 1037, 1262, 1045), (1234, 1016, 1242, 1023), (1315, 1535, 1327, 1540), (1272, 1534, 1284, 1539), (1709, 1588, 1714, 1600), (1315, 1618, 1327, 1623), (1458, 1590, 1464, 1599), (1442, 745, 1450, 752), (1463, 745, 1472, 752), (1463, 724, 1472, 730), (1505, 765, 1513, 772), (1442, 828, 1450, 835), (1505, 828, 1514, 835), (1588, 808, 1596, 815), (1442, 912, 1450, 919), (1464, 912, 1472, 919), (1443, 996, 1451, 1003), (1463, 995, 1472, 1002), (1588, 974, 1596, 981), (1275, 765, 1284, 772), (1297, 787, 1305, 794), (1338, 827, 1345, 835), (1297, 870, 1305, 877), (1379, 891, 1387, 898), (1275, 1037, 1284, 1044), (1275, 745, 1283, 752), (1255, 870, 1263, 877), (1254, 913, 1262, 919), (1213, 1037, 1221, 1044), (1192, 1037, 1200, 1044), (1463, 1037, 1471, 1044), (1442, 1038, 1450, 1045), (1191, 1059, 1200, 1065), (1191, 1080, 1200, 1087), (1295, 1058, 1304, 1065), (1296, 1079, 1304, 1086), (1442, 849, 1451, 855), (1148, 1452, 1160, 1457), (1106, 1536, 1118, 1540), (1482, 1481, 1494, 1486), (1274, 1452, 1285, 1457), (1421, 766, 1430, 772), (1547, 995, 1554, 1003), (1296, 891, 1304, 898), (1213, 807, 1220, 815), (1213, 849, 1220, 857), (1192, 849, 1200, 856), (1192, 890, 1199, 898), (1526, 1015, 1533, 1023), (1261, 1505, 1266, 1518), (1147, 1619, 1159, 1624), (1505, 745, 1513, 752), (1547, 745, 1555, 752), (1505, 786, 1513, 793), (1464, 828, 1472, 835), (1506, 870, 1514, 877), (1547, 870, 1555, 877), (1589, 849, 1596, 857), (1506, 912, 1514, 919), (1568, 891, 1576, 898), (1568, 996, 1576, 1003), (1546, 954, 1554, 961), (1401, 745, 1408, 752), (1421, 787, 1429, 794), (1275, 787, 1283, 794), (1359, 766, 1367, 773), (1339, 870, 1347, 877), (1421, 849, 1429, 856), (1359, 912, 1367, 919), (1400, 891, 1408, 898), (1401, 912, 1408, 919), (1401, 1038, 1408, 1045), (1296, 996, 1304, 1003), (1338, 996, 1346, 1003), (1359, 996, 1367, 1003), (1338, 1038, 1346, 1045), (1212, 870, 1220, 877), (1212, 912, 1220, 918), (1212, 933, 1220, 940), (1255, 954, 1262, 961), (1212, 995, 1220, 1002), (1255, 995, 1262, 1002), (1567, 1037, 1575, 1044), (1505, 1037, 1513, 1044), (1275, 1079, 1283, 1086), (1338, 1080, 1346, 1087), (1505, 1078, 1513, 1085), (1525, 1078, 1533, 1085), (1338, 807, 1346, 814), (1421, 870, 1430, 877), (1317, 891, 1325, 897), (1296, 1038, 1304, 1045), (1212, 1079, 1220, 1086), (1107, 1368, 1117, 1373), (1566, 1536, 1577, 1541), (1421, 955, 1430, 961), (1356, 1536, 1368, 1540), (1147, 1535, 1160, 1539), (1192, 682, 1199, 689), (1443, 703, 1450, 710), (1547, 703, 1554, 710), (1568, 703, 1575, 710), (1589, 703, 1596, 710), (1589, 745, 1596, 752), (1527, 745, 1534, 752), (1568, 745, 1576, 752), (1463, 786, 1471, 793), (1547, 787, 1554, 794), (1589, 786, 1596, 793), (1526, 807, 1533, 814), (1526, 828, 1533, 835), (1547, 829, 1555, 836), (1568, 828, 1576, 835), (1589, 891, 1596, 898), (1443, 870, 1450, 877), (1527, 913, 1535, 919), (1547, 913, 1555, 919), (1526, 954, 1534, 961), (1568, 954, 1575, 961), (1589, 996, 1596, 1003), (1527, 995, 1534, 1002), (1359, 745, 1367, 752), (1422, 745, 1429, 752), (1296, 766, 1304, 773), (1359, 787, 1366, 794), (1276, 828, 1283, 835), (1358, 828, 1366, 835), (1380, 828, 1387, 835), (1422, 828, 1429, 835), (1360, 870, 1367, 877), (1401, 870, 1408, 877), (1276, 912, 1283, 919), (1380, 911, 1387, 918), (1422, 912, 1429, 919), (1275, 932, 1283, 939), (1360, 954, 1367, 961), (1401, 954, 1409, 961), (1275, 996, 1283, 1003), (1380, 996, 1387, 1003), (1401, 996, 1408, 1003), (1421, 1038, 1429, 1045), (1359, 1038, 1367, 1045), (1192, 724, 1200, 731), (1193, 766, 1200, 773), (1192, 933, 1199, 940), (1255, 932, 1262, 940), (1192, 996, 1200, 1003), (1546, 1038, 1554, 1045), (1526, 1037, 1534, 1044), (1422, 1079, 1429, 1086), (1463, 1079, 1470, 1086), (1443, 1079, 1450, 1086), (1484, 1079, 1492, 1086), (1547, 1079, 1554, 1086), (1568, 1079, 1575, 1086), (1690, 1452, 1701, 1457), (1588, 912, 1596, 918), (1421, 933, 1429, 940), (1338, 891, 1346, 898), (1275, 954, 1283, 961), (1296, 745, 1304, 752), (1212, 828, 1220, 835), (1192, 954, 1200, 960), (1359, 1080, 1367, 1086), (1273, 1370, 1284, 1375), (1566, 1451, 1577, 1455), (1512, 1590, 1517, 1601), (1608, 1536, 1619, 1541), (1380, 766, 1387, 773), (1526, 786, 1533, 793), (1568, 787, 1575, 793), (1589, 829, 1596, 835), (1464, 871, 1471, 877), (1526, 871, 1534, 877), (1568, 870, 1576, 877), (1443, 954, 1450, 961), (1589, 954, 1596, 960), (1380, 787, 1387, 794), (1401, 787, 1408, 794), (1401, 829, 1408, 835), (1275, 870, 1283, 877), (1338, 974, 1346, 980), (1421, 996, 1429, 1002), (1317, 746, 1325, 752), (1234, 745, 1241, 751), (1401, 1079, 1408, 1086), (1192, 703, 1200, 709), (1212, 703, 1220, 709), (1338, 704, 1346, 710), (1359, 704, 1367, 710), (1484, 787, 1492, 793), (1463, 955, 1471, 961), (1484, 954, 1492, 960), (1296, 829, 1304, 835), (1255, 828, 1263, 834), (1255, 1080, 1262, 1086), (1254, 703, 1261, 709), (1276, 703, 1284, 709), (1297, 704, 1304, 710), (1317, 704, 1325, 710), (1381, 703, 1388, 709), (1401, 704, 1408, 710), (1463, 704, 1471, 710), (1484, 704, 1492, 710), (1484, 745, 1492, 751), (1484, 828, 1492, 834), (1485, 912, 1492, 918), (1484, 995, 1492, 1001), (1317, 870, 1325, 876), (1297, 913, 1304, 918), (1317, 954, 1325, 960), (1317, 996, 1324, 1002), (1317, 1037, 1324, 1043), (1255, 745, 1262, 751), (1212, 745, 1219, 751), (1192, 746, 1200, 752), (1255, 787, 1262, 793), (1235, 787, 1242, 793), (1213, 787, 1221, 793), (1193, 787, 1200, 793), (1233, 828, 1241, 834), (1193, 829, 1200, 835), (1233, 870, 1241, 876), (1193, 870, 1200, 876), (1233, 915, 1241, 920), (1192, 912, 1199, 918), (1234, 954, 1241, 960), (1233, 996, 1241, 1002), (1234, 1037, 1241, 1043), (1485, 1038, 1492, 1044), (1233, 1078, 1241, 1084), (1317, 1080, 1325, 1086), (1421, 704, 1429, 709), (1338, 787, 1346, 792), (1297, 954, 1304, 960), (1213, 954, 1220, 960), (1234, 703, 1241, 709), (1317, 787, 1325, 792), (1588, 871, 1595, 876)
